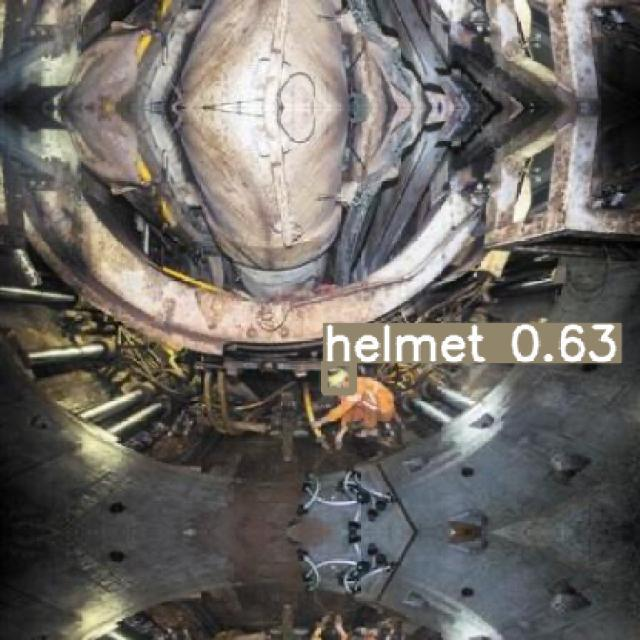yellow helmet: (328, 362, 354, 392)
